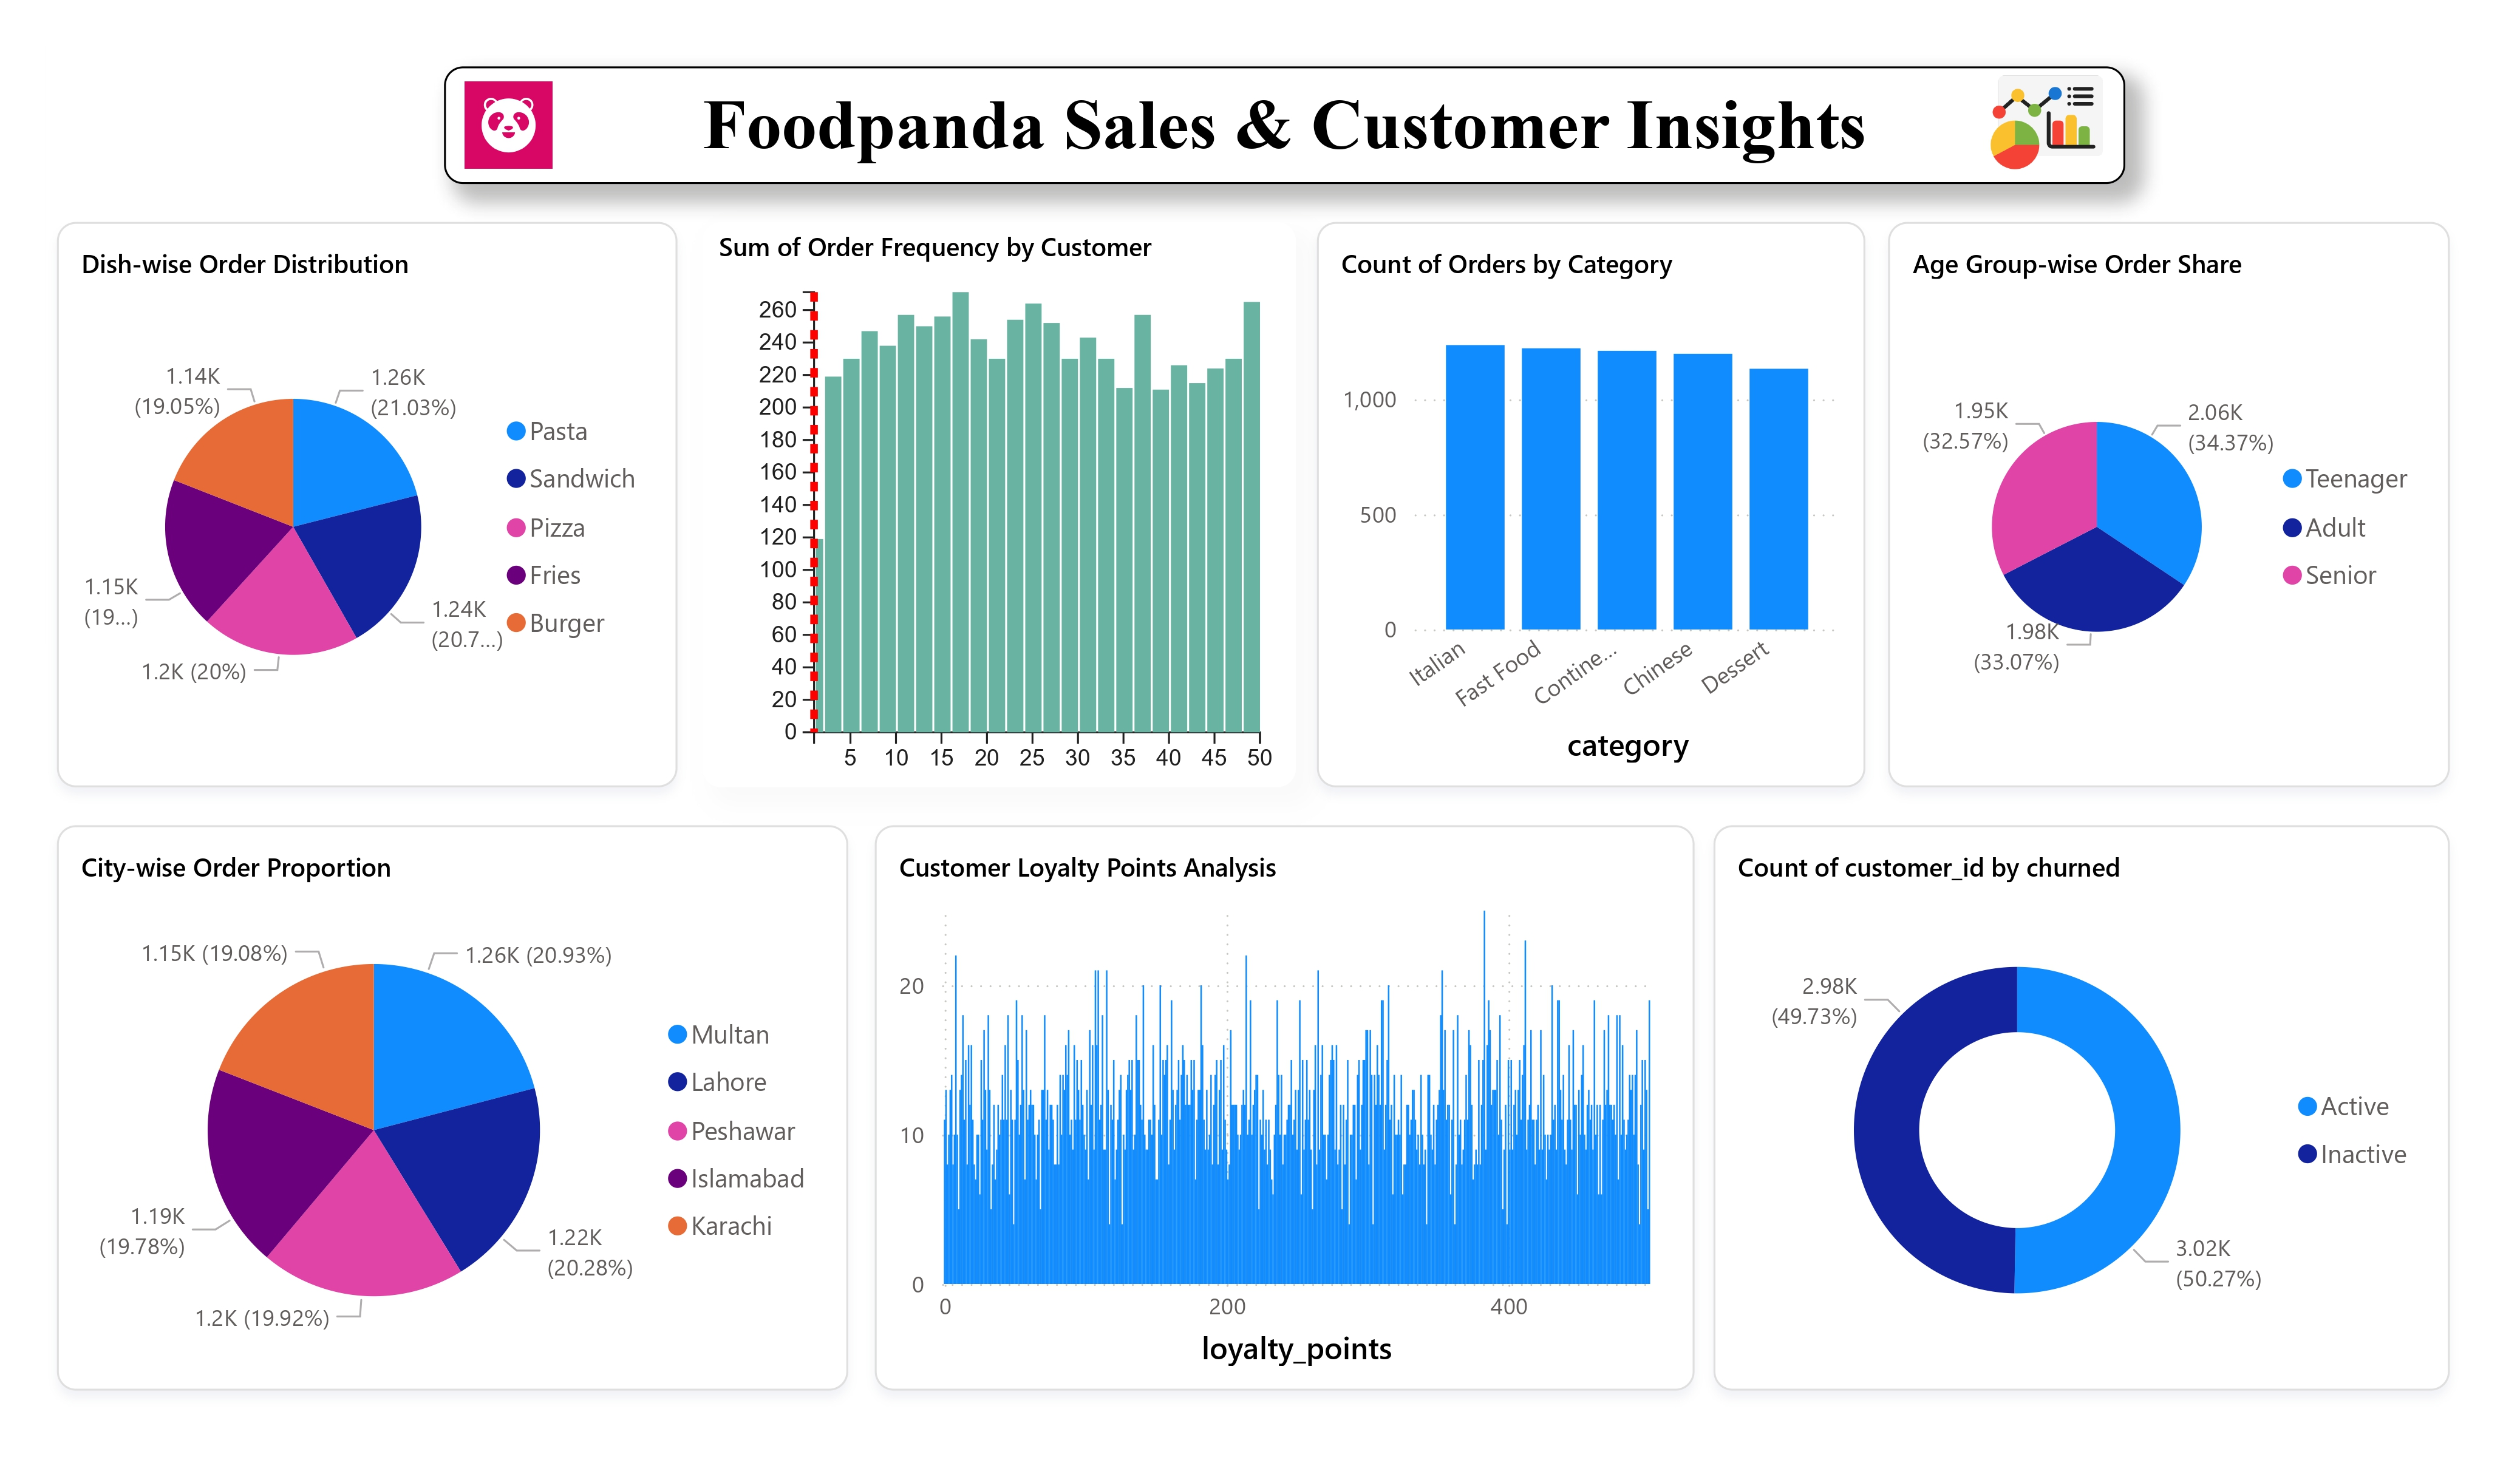

This screenshot's page, from the dashboard's own definition file:
{"tool":"powerbi","page":{"name":"Page 2 Product & Customer Insights","canvas":[1280,720],"ordinal":1},"visuals":[{"type":"pieChart","title":"Dish-wise Order Distribution","fields":{"Y":["CountNonNull(Foodpanda Analysis Dataset.order_id)"],"Category":["Foodpanda Analysis Dataset.dish_name"]},"box":[5.7,92.9,327.1,298.6],"z":0},{"type":"pieChart","title":"Age Group-wise Order Share","fields":{"Category":["Foodpanda Analysis Dataset.age"],"Y":["CountNonNull(Foodpanda Analysis Dataset.order_id)"]},"box":[971.4,92.9,295.7,298.6],"z":1000},{"type":"pieChart","title":"City-wise Order Proportion","fields":{"Category":["Foodpanda Analysis Dataset.city"],"Y":["CountNonNull(Foodpanda Analysis Dataset.order_id)"]},"box":[5.7,411.4,417.1,297.1],"z":2000},{"type":"ribbonChart","title":"Customer Loyalty Points Analysis","fields":{"Category":["Foodpanda Analysis Dataset.loyalty_points"],"Y":["Count(Foodpanda Analysis Dataset.customer_id)"]},"box":[437.1,411.4,431.4,297.1],"z":3000},{"type":"PowerBI_Histogram","title":"Sum of Order Frequency by Customer","fields":{"Values":["Sum(Foodpanda Analysis Dataset.order_frequency)"],"VerticalLines":["Foodpanda Analysis Dataset.customer_id"]},"box":[345.7,92.9,312.9,298.6],"z":4000},{"type":"donutChart","fields":{"Category":["Foodpanda Analysis Dataset.churned"],"Y":["CountNonNull(Foodpanda Analysis Dataset.customer_id)"]},"box":[878.6,411.4,388.6,297.1],"z":5000},{"type":"columnChart","title":"Count of Orders by Category","fields":{"Category":["Foodpanda Analysis Dataset.category"],"Y":["CountNonNull(Foodpanda Analysis Dataset.order_id)"]},"box":[670,92.9,288.6,298.6],"z":6000},{"type":"textbox","box":[210,11.4,885.7,61.4],"z":7000},{"type":"image","box":[211.4,14.3,64.3,55.7],"z":8000},{"type":"image","box":[1004.3,4.3,100,72.9],"z":9000}]}

Visuals, with their boxes in screenshot pixels (x1, y1, x2, y2):
"Dish-wise Order Distribution" pieChart: [x1=56, y1=222, x2=677, y2=788]
"Age Group-wise Order Share" pieChart: [x1=1889, y1=222, x2=2450, y2=788]
"City-wise Order Proportion" pieChart: [x1=56, y1=826, x2=848, y2=1390]
"Customer Loyalty Points Analysis" ribbonChart: [x1=875, y1=826, x2=1694, y2=1390]
"Sum of Order Frequency by Customer" PowerBI_Histogram: [x1=701, y1=222, x2=1295, y2=788]
donutChart - Foodpanda Analysis Dataset.churned x CountNonNull(Foodpanda Analysis Dataset.customer_id): [x1=1713, y1=826, x2=2450, y2=1390]
"Count of Orders by Category" columnChart: [x1=1317, y1=222, x2=1865, y2=788]
textbox: [x1=444, y1=67, x2=2125, y2=183]
image: [x1=447, y1=73, x2=569, y2=178]
image: [x1=1951, y1=53, x2=2141, y2=192]
